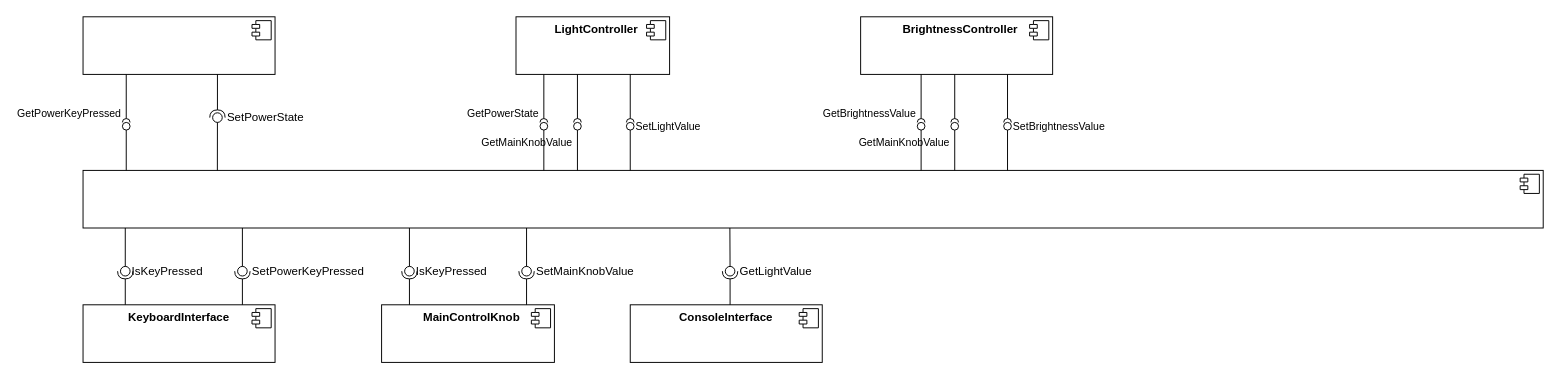
Image size: 1560x379. Some labels were removed from this diagram. The shapes that lost their labels are listed below. From the top down, each one's box as (x1, y1, x2, y2) in pixels, then its label:
(82, 16, 275, 74): PowerSignalProcessing
(82, 169, 1543, 228): RTE
